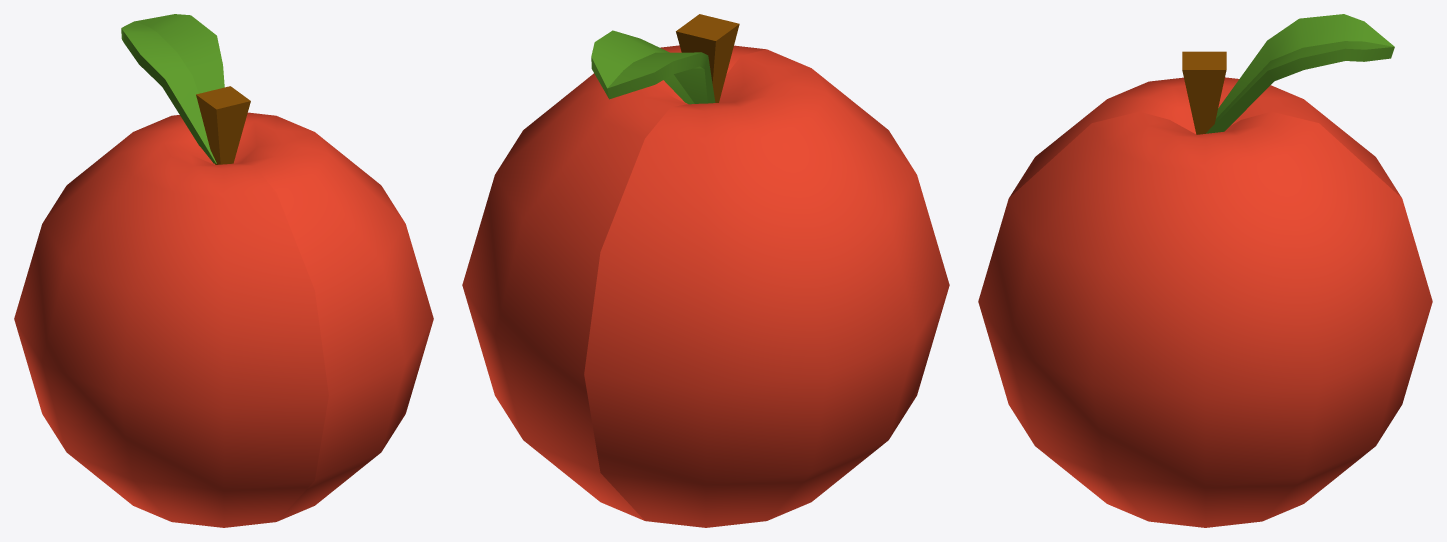
File: Apple_Splited.fbx
The picture shows the model from 3 angles, left to right: view 1: azimuth 30°, elevation 25°; view 2: azimuth 150°, elevation 25°; view 3: azimuth 270°, elevation 25°; orthographic projection. The views are drawn at different scales.
Visible parts, largest first — view 1: Apple_Half_01, Apple_Half_02; view 2: Apple_Half_01, Apple_Half_02; view 3: Apple_Half_02, Apple_Half_01.
Boxes of the visible parts, x1,y1,x2,y2 form: Apple_Half_01: [14, 21, 328, 527]; Apple_Half_02: [134, 14, 433, 521]; Apple_Half_01: [584, 19, 949, 527]; Apple_Half_02: [462, 14, 765, 520]; Apple_Half_02: [978, 41, 1432, 527]; Apple_Half_01: [1009, 14, 1401, 197].
Bounding box in the file's own units: 14.58 × 16.3 × 14.58.
